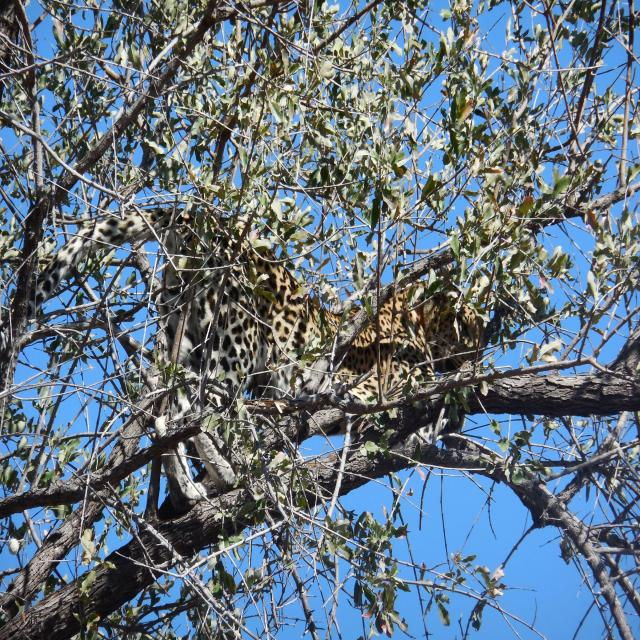Leopard: (0, 202, 514, 541)
